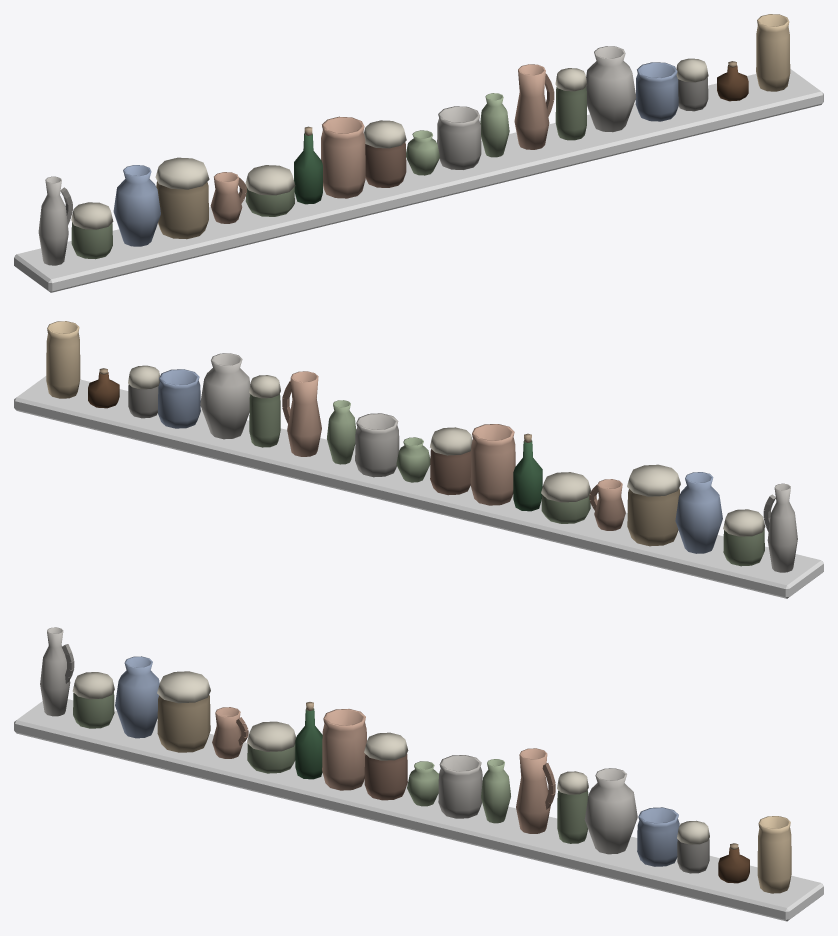
Rendered from door_shelf_jars.glb.
3 views of the same model, one above another, from view 1: azimuth 30°, elevation 25°; view 2: azimuth 150°, elevation 25°; view 3: azimuth 330°, elevation 25° (orthographic).
Parts seen in each view (by area): view 1: bottle; view 2: bottle; view 3: bottle.
Boxes of the visible parts, x1,y1,x2,y2 form: bottle: [14, 14, 823, 292]; bottle: [14, 321, 823, 598]; bottle: [14, 627, 823, 921].
Size of the model in its own units: 3 by 0.35 by 0.25.
